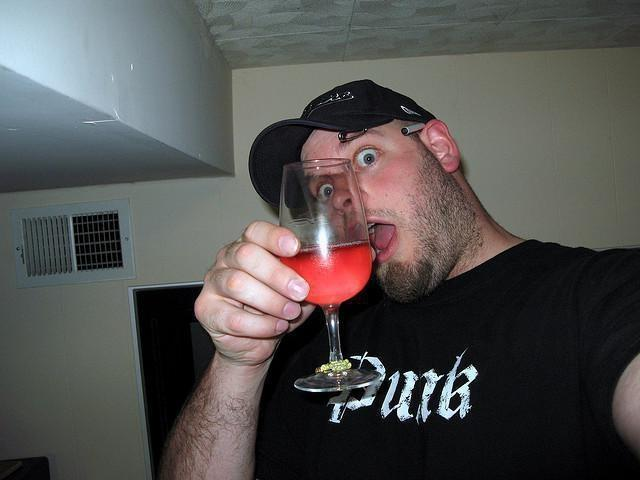glass-wine: (272, 158, 382, 397)
